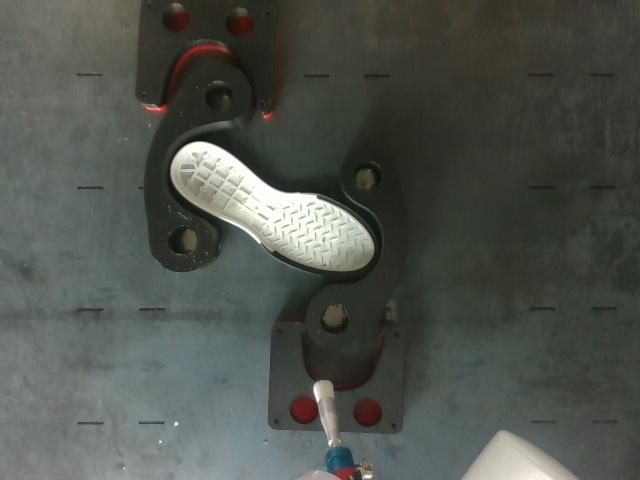shoes: (171, 142, 379, 276)
